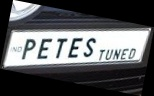character: (36, 38, 52, 59), (21, 38, 36, 60), (68, 37, 82, 57), (55, 37, 67, 58), (83, 37, 95, 57), (104, 48, 113, 59), (119, 48, 128, 59), (127, 47, 135, 59), (98, 48, 105, 61), (112, 48, 120, 59)
